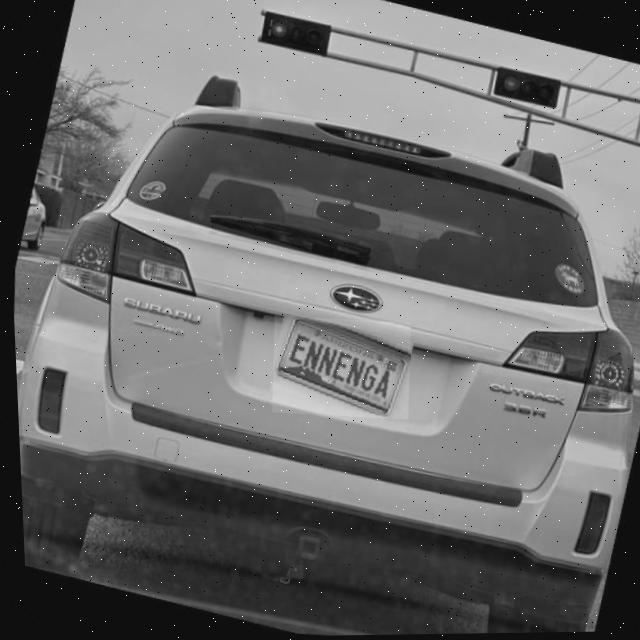LicensePlate: (269, 318, 406, 419)
